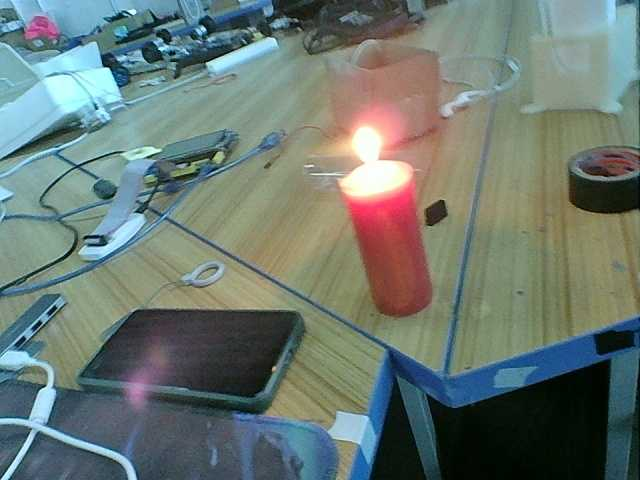candle: (340, 184, 432, 317)
fire: (333, 124, 415, 192)
